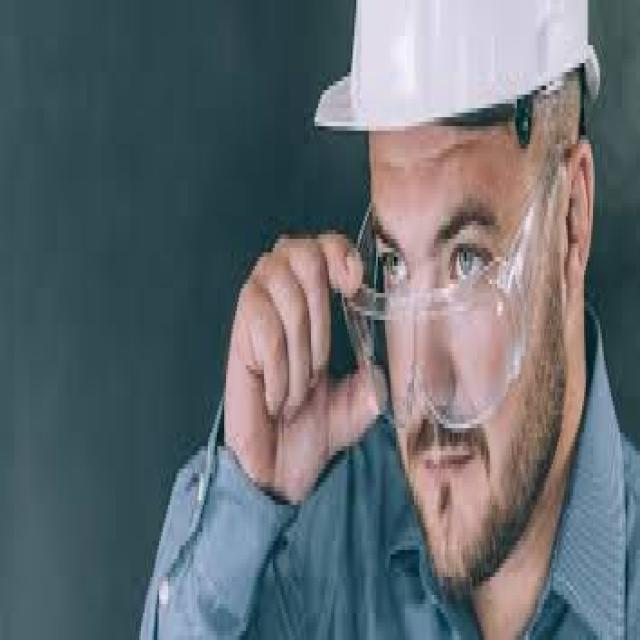oculos-epi: (342, 185, 541, 428)
